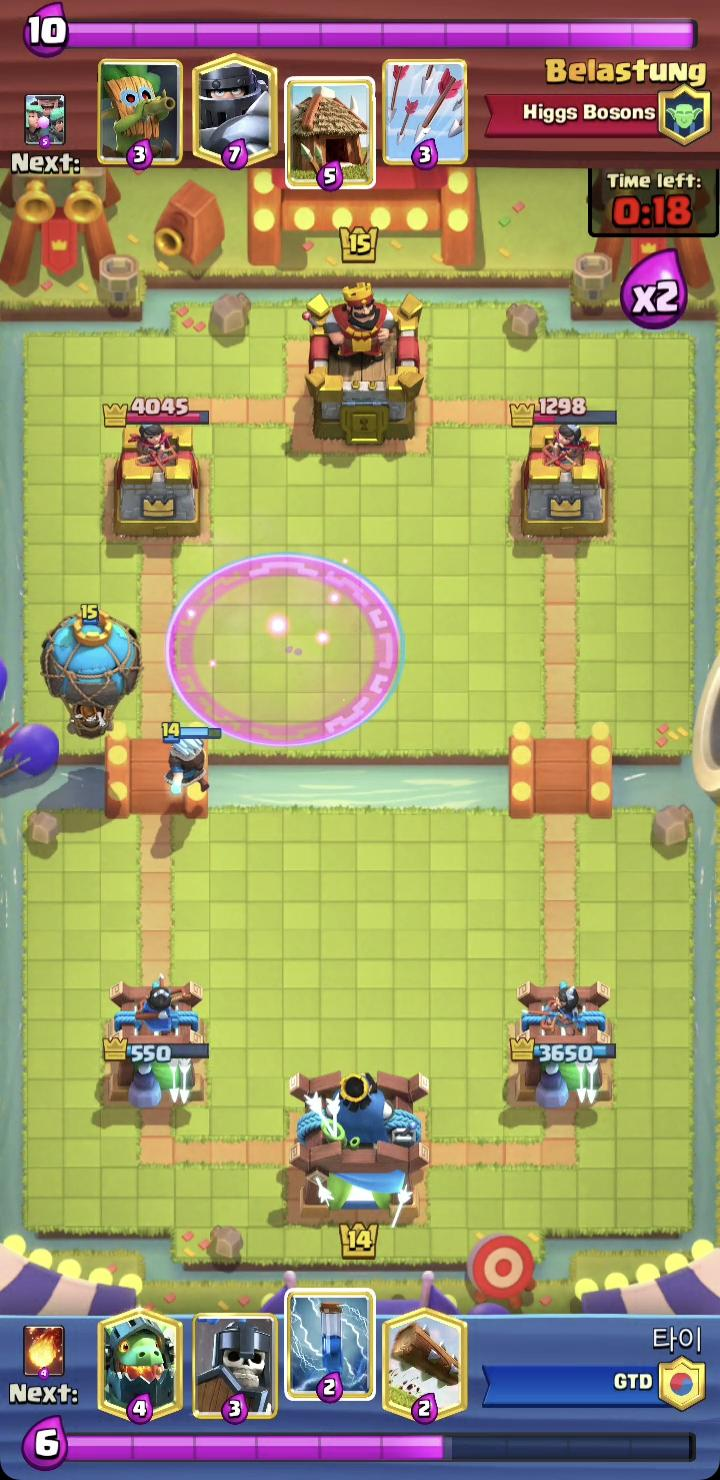ally_balloon: (38, 601, 144, 740)
ally_ice_wizard: (157, 718, 225, 799)
